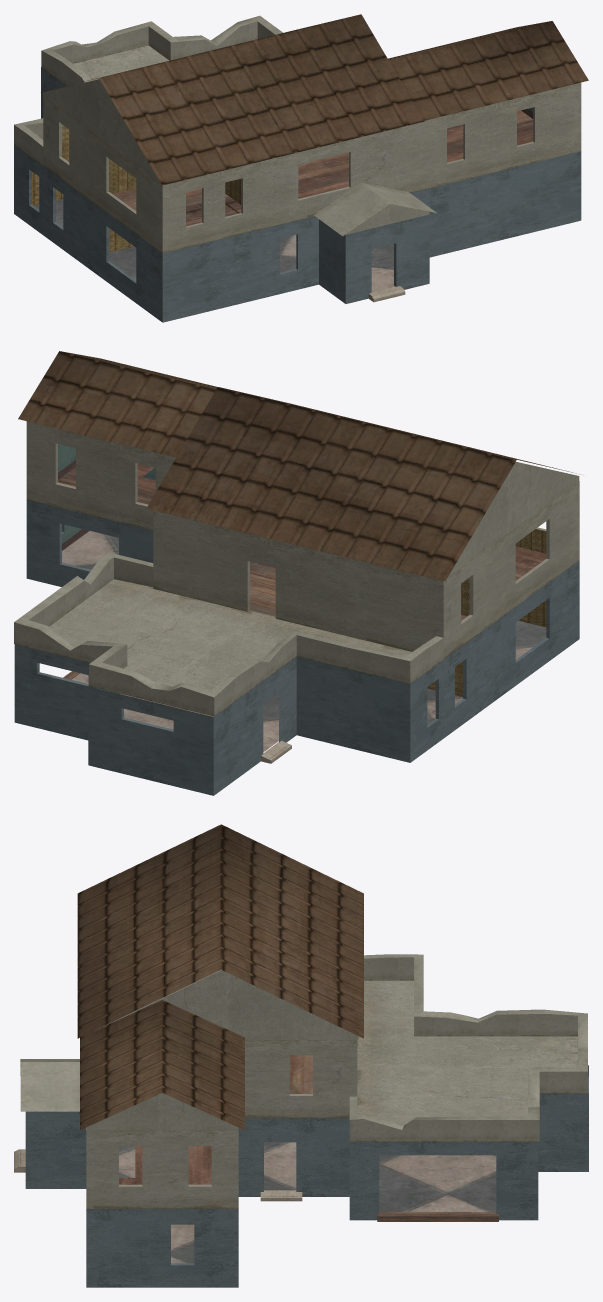
The model's file is BuildingLarge01_2048_lod2.glb.
3 views of the same model, one above another, from view 1: azimuth 30°, elevation 25°; view 2: azimuth 150°, elevation 25°; view 3: azimuth 270°, elevation 25° (orthographic). The views are drawn at different scales.
Visible parts, largest first — view 1: xiutz_building_large_01_lod2; view 2: xiutz_building_large_01_lod2; view 3: xiutz_building_large_01_lod2.
Part boxes in pixels (x1,y1,x2,y2): xiutz_building_large_01_lod2: (14, 14, 588, 322); xiutz_building_large_01_lod2: (14, 351, 579, 795); xiutz_building_large_01_lod2: (14, 824, 588, 1287).
Size of the model in its own units: 31.2 by 14.08 by 32.01.
1 material, 1 textured.
